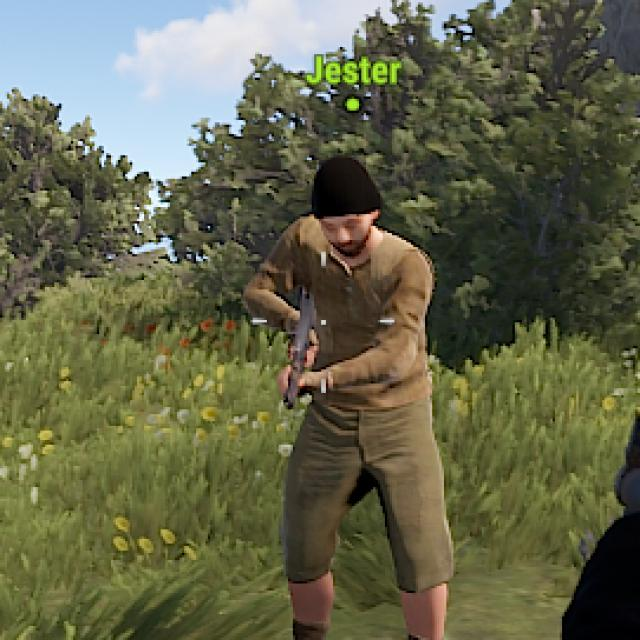Player: (242, 162, 452, 638)
